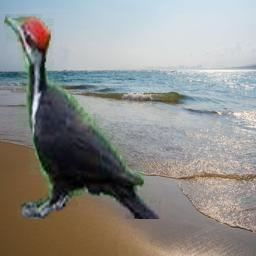Woodpecker: (4, 14, 161, 219)
